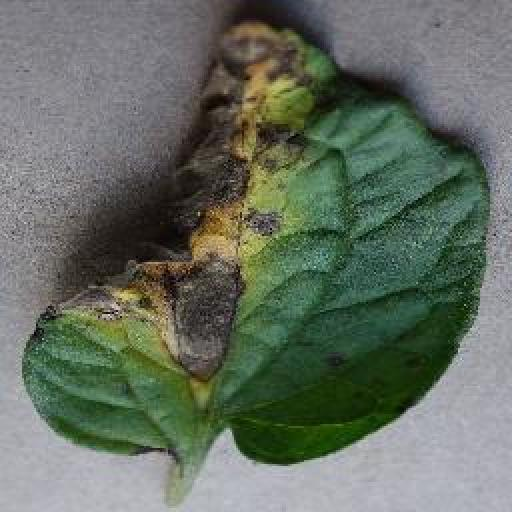Early Blight: (24, 16, 491, 467)
